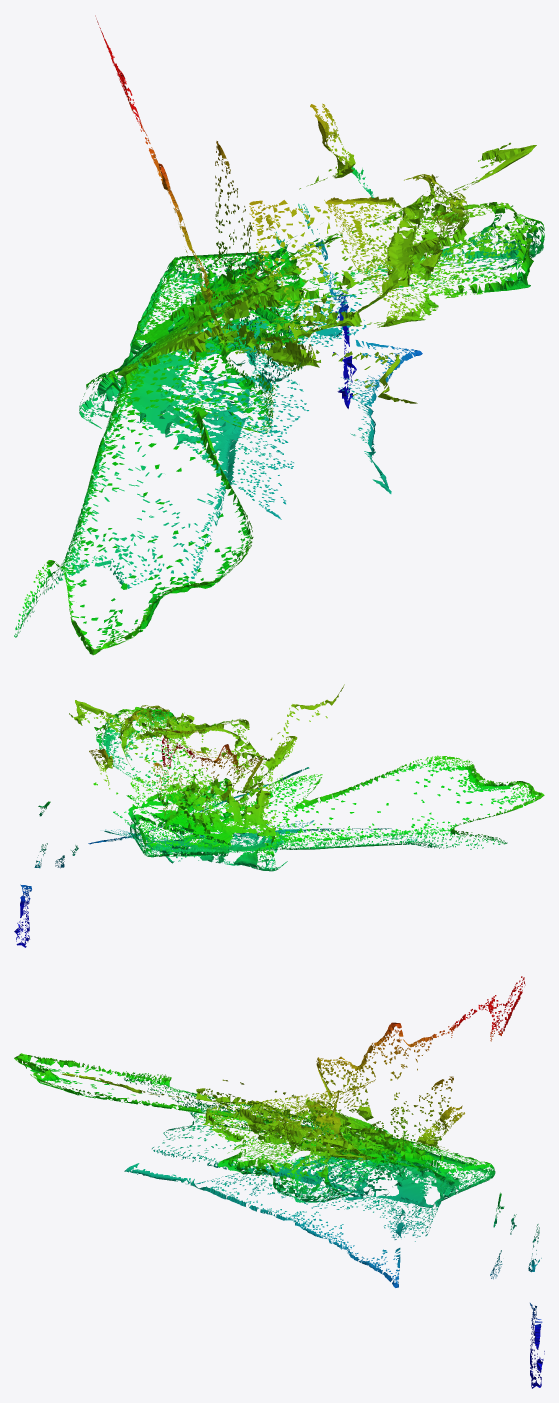
3 renders of one model, top to bottom at view 1: azimuth 30°, elevation 25°; view 2: azimuth 150°, elevation 25°; view 3: azimuth 270°, elevation 25°, orthographic. The views are drawn at different scales.
Visible parts, largest first — view 1: geometry_0; view 2: geometry_0; view 3: geometry_0.
Boxes of the visible parts, x1,y1,x2,y2 form: geometry_0: (14, 15, 544, 655); geometry_0: (14, 684, 544, 947); geometry_0: (14, 976, 544, 1388).
Bounding box in the file's own units: 1.67 × 1.1 × 1.63.
